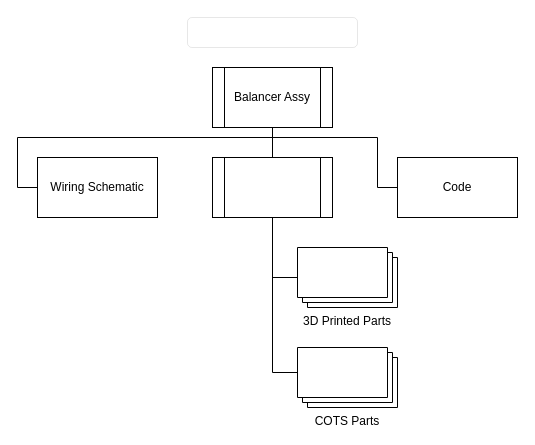
Some shapes in this 535 by 445 pixel diagram are drawn without their labels. The shapes that lost their labels are listed below. From the top down, each one's centre as x and y in pixels, then its label:
the point at 272,32: Engineering Drawing Tree
the point at 272,187: CAD Assy
